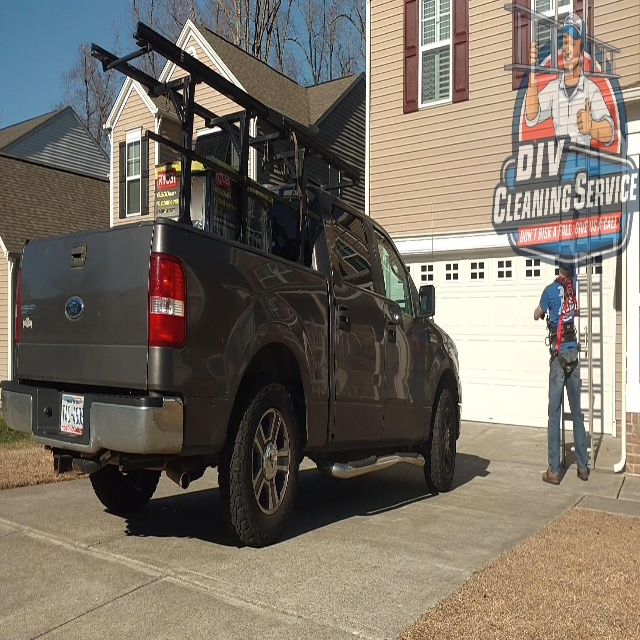Arnes_seguridad: (544, 273, 582, 378)
